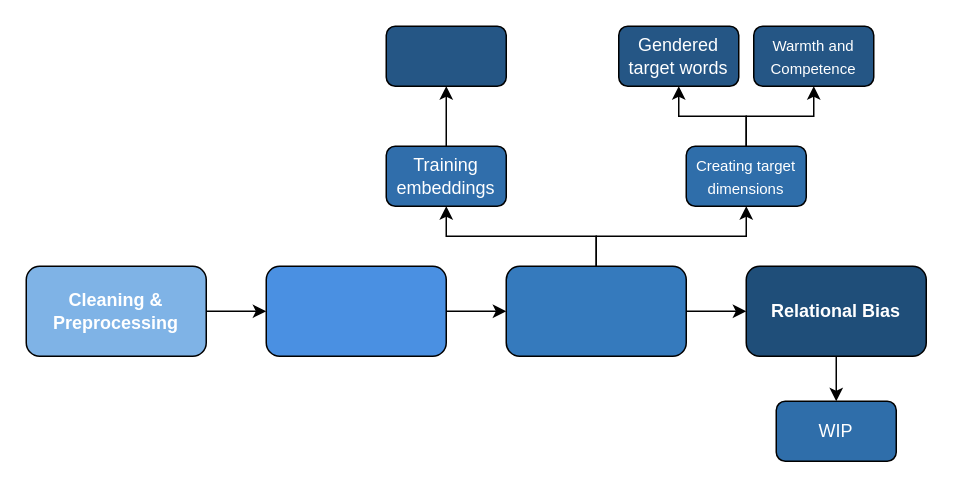
The diagram is 953 pixels wide and 488 high, and some of its shapes have lost their labels. The centre of each missing label's shape, as x and y in pixels:
Associational Bias: [595,310]
Embedding quality checks: [445,55]
Representational Bias: [355,310]
